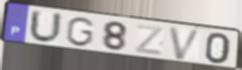0: (203, 32, 233, 65)
8: (101, 20, 130, 52)
G: (64, 16, 97, 48)
U: (28, 8, 64, 45)
V: (167, 26, 203, 61)
Z: (134, 23, 166, 58)
